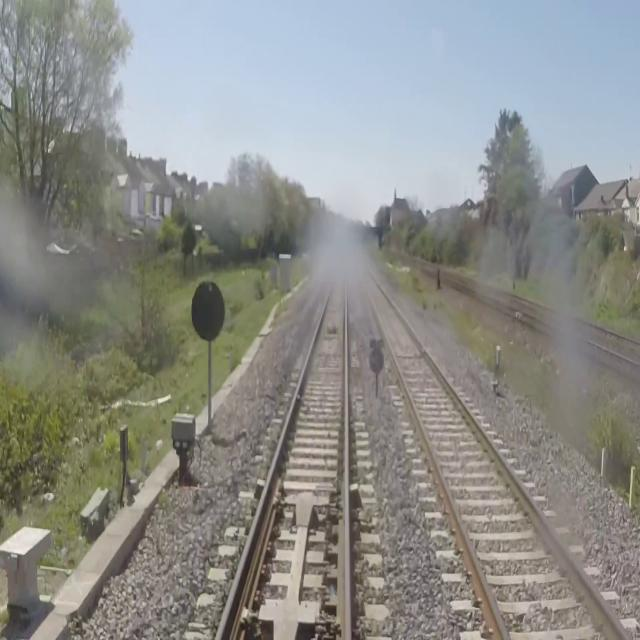rail-track: (353, 255, 625, 639), (221, 252, 346, 639), (521, 313, 640, 379), (388, 252, 436, 276)
